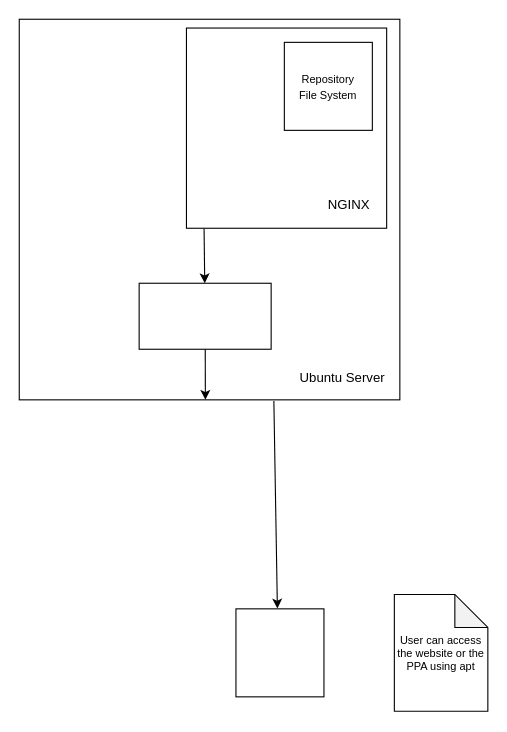
The diagram is 507 pixels wide and 732 high, and some of its shapes have lost their labels. Here are the shapes that lost their labels. From the top down, the box of each, then its label:
(138, 282, 271, 349): Certbot To Enable HTTPS
(235, 608, 324, 697): User
